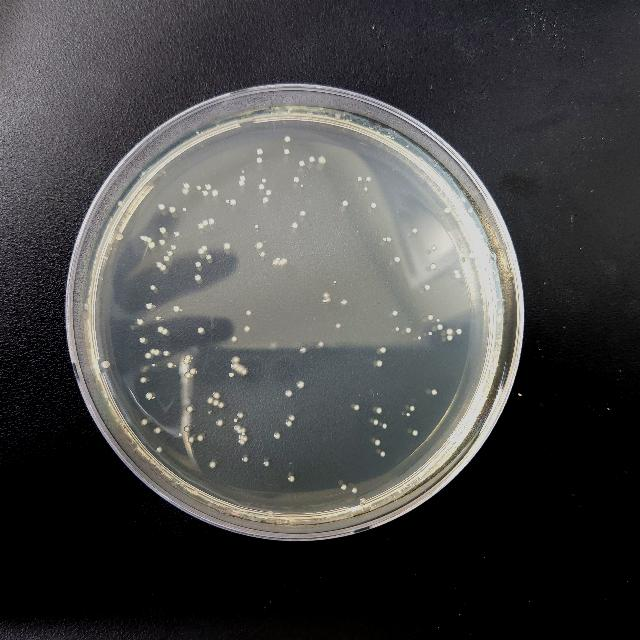colony: (316, 341, 326, 349), (296, 380, 306, 388), (318, 156, 326, 164), (290, 221, 298, 229), (208, 218, 216, 226), (136, 318, 144, 326), (232, 356, 240, 364), (154, 426, 162, 434), (284, 420, 292, 428), (209, 461, 217, 469), (216, 419, 224, 427), (186, 405, 194, 413), (206, 396, 214, 404), (212, 399, 220, 407), (212, 391, 220, 399), (140, 168, 146, 178), (182, 188, 190, 195), (223, 242, 230, 250), (233, 423, 240, 431), (324, 292, 331, 300), (284, 134, 290, 142), (380, 346, 386, 354), (341, 298, 347, 306), (273, 258, 279, 266), (198, 222, 204, 230), (198, 326, 204, 334), (162, 328, 168, 336), (168, 206, 176, 212), (116, 232, 122, 240), (149, 240, 155, 248), (140, 376, 146, 384), (146, 392, 152, 400), (140, 419, 148, 425), (157, 446, 163, 454), (300, 347, 306, 355), (286, 390, 292, 398), (289, 414, 295, 422), (274, 432, 280, 440), (267, 510, 275, 516), (197, 434, 203, 442), (185, 372, 191, 380), (217, 402, 225, 408), (350, 487, 358, 493), (354, 404, 360, 412), (376, 407, 382, 415), (374, 439, 380, 447), (380, 450, 386, 458), (468, 207, 474, 215), (193, 488, 199, 496), (212, 190, 218, 197), (202, 190, 208, 197), (377, 359, 383, 366), (198, 248, 204, 255), (185, 354, 192, 360), (115, 416, 122, 422), (188, 437, 195, 443), (190, 368, 197, 374), (85, 302, 89, 312), (497, 314, 501, 324), (284, 148, 290, 154), (257, 148, 263, 154), (299, 160, 305, 166), (309, 156, 315, 162), (294, 176, 300, 182), (266, 190, 272, 196), (263, 197, 269, 203), (240, 175, 246, 181), (239, 180, 245, 186), (230, 199, 236, 205), (205, 184, 211, 190), (183, 182, 189, 188), (342, 200, 348, 206), (412, 228, 418, 234), (394, 257, 400, 263), (444, 207, 450, 213), (431, 263, 437, 269), (424, 284, 430, 290), (428, 314, 434, 320), (392, 310, 398, 316), (437, 324, 443, 330), (447, 328, 453, 334), (456, 329, 462, 335), (446, 334, 452, 340), (431, 389, 437, 395), (299, 210, 305, 216), (279, 260, 285, 266), (256, 242, 262, 248), (202, 220, 208, 226), (202, 245, 208, 251), (206, 254, 212, 260), (195, 261, 201, 267), (195, 275, 201, 281), (246, 310, 252, 316), (244, 326, 250, 332), (231, 336, 237, 342), (174, 306, 180, 312), (150, 285, 156, 291), (146, 303, 152, 309), (158, 327, 164, 333), (139, 337, 145, 343), (158, 204, 164, 210), (117, 200, 123, 206), (159, 239, 165, 245), (160, 227, 166, 233), (174, 232, 180, 238), (170, 245, 176, 251), (167, 250, 173, 256), (164, 255, 170, 261), (156, 261, 162, 267), (160, 265, 166, 271), (167, 362, 173, 368), (163, 350, 169, 356), (154, 349, 160, 355), (145, 353, 151, 359), (288, 476, 294, 482), (243, 456, 249, 462), (238, 412, 244, 418), (184, 426, 190, 432), (240, 427, 246, 433), (238, 434, 244, 440), (341, 484, 347, 490), (360, 498, 366, 504), (382, 423, 388, 429), (409, 406, 415, 412), (412, 430, 418, 436), (335, 323, 341, 329), (326, 297, 332, 303), (466, 278, 472, 284), (288, 514, 294, 520), (336, 112, 340, 120), (244, 434, 248, 442), (470, 252, 474, 260), (255, 158, 262, 162), (183, 360, 190, 364), (262, 178, 266, 184), (260, 184, 264, 190), (196, 186, 202, 190), (366, 176, 370, 182), (387, 236, 391, 242), (432, 245, 436, 251), (455, 269, 459, 275), (455, 274, 461, 278), (282, 258, 288, 262), (260, 252, 266, 256), (318, 107, 324, 111), (288, 107, 294, 111), (196, 130, 200, 136), (144, 235, 148, 241), (146, 238, 152, 242), (150, 349, 154, 355), (238, 440, 244, 444), (374, 419, 378, 425), (461, 196, 465, 202), (292, 518, 296, 524), (300, 184, 304, 188), (364, 187, 368, 191), (358, 177, 362, 181), (372, 204, 376, 208), (406, 328, 410, 332), (428, 332, 432, 336), (276, 257, 280, 261), (183, 208, 187, 212), (156, 316, 160, 320), (140, 236, 144, 240), (230, 372, 234, 376), (152, 363, 156, 367), (264, 462, 268, 466), (234, 419, 238, 423), (237, 430, 241, 434), (241, 440, 245, 444), (496, 298, 500, 302), (227, 199, 230, 203), (436, 318, 439, 322), (255, 225, 258, 229), (208, 411, 212, 414), (406, 412, 409, 416), (500, 308, 502, 314), (396, 327, 398, 331), (418, 336, 420, 340), (334, 280, 336, 284), (180, 432, 182, 436), (242, 432, 244, 436), (322, 299, 324, 303), (324, 300, 328, 302), (242, 171, 244, 173), (384, 238, 386, 240)
